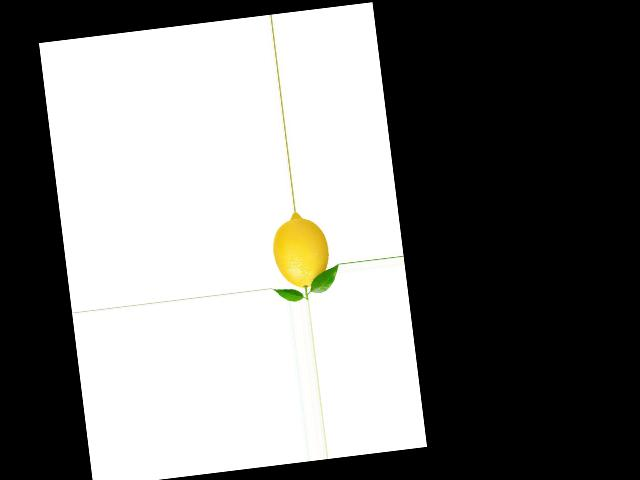lemon: (266, 210, 336, 298)
